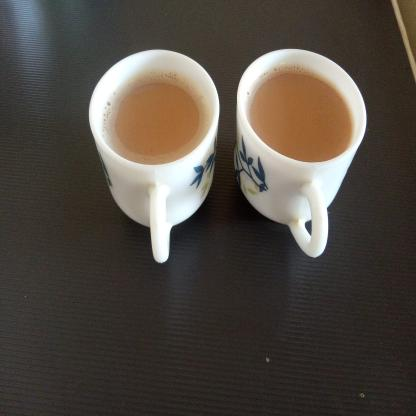cup: (114, 116, 278, 298), (119, 310, 279, 416)
